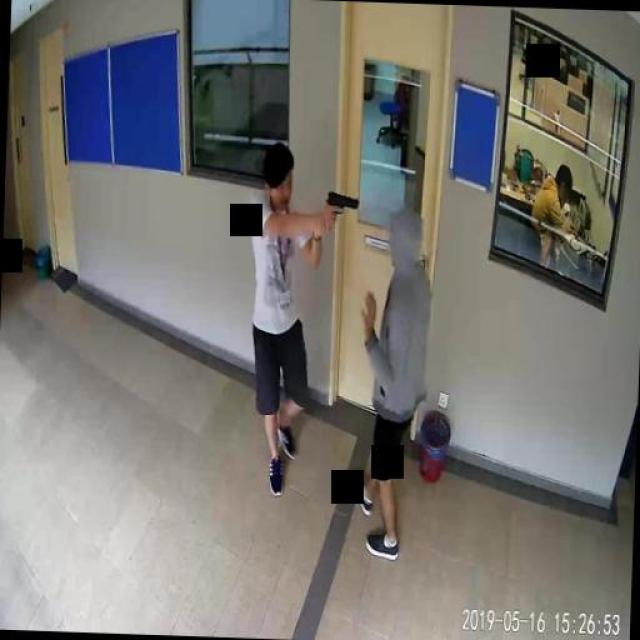gun: (323, 186, 358, 228)
